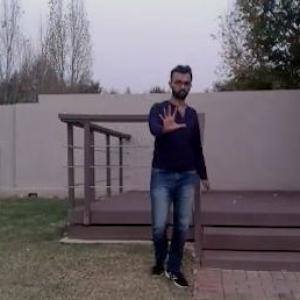follow_hand: (156, 100, 188, 135)
